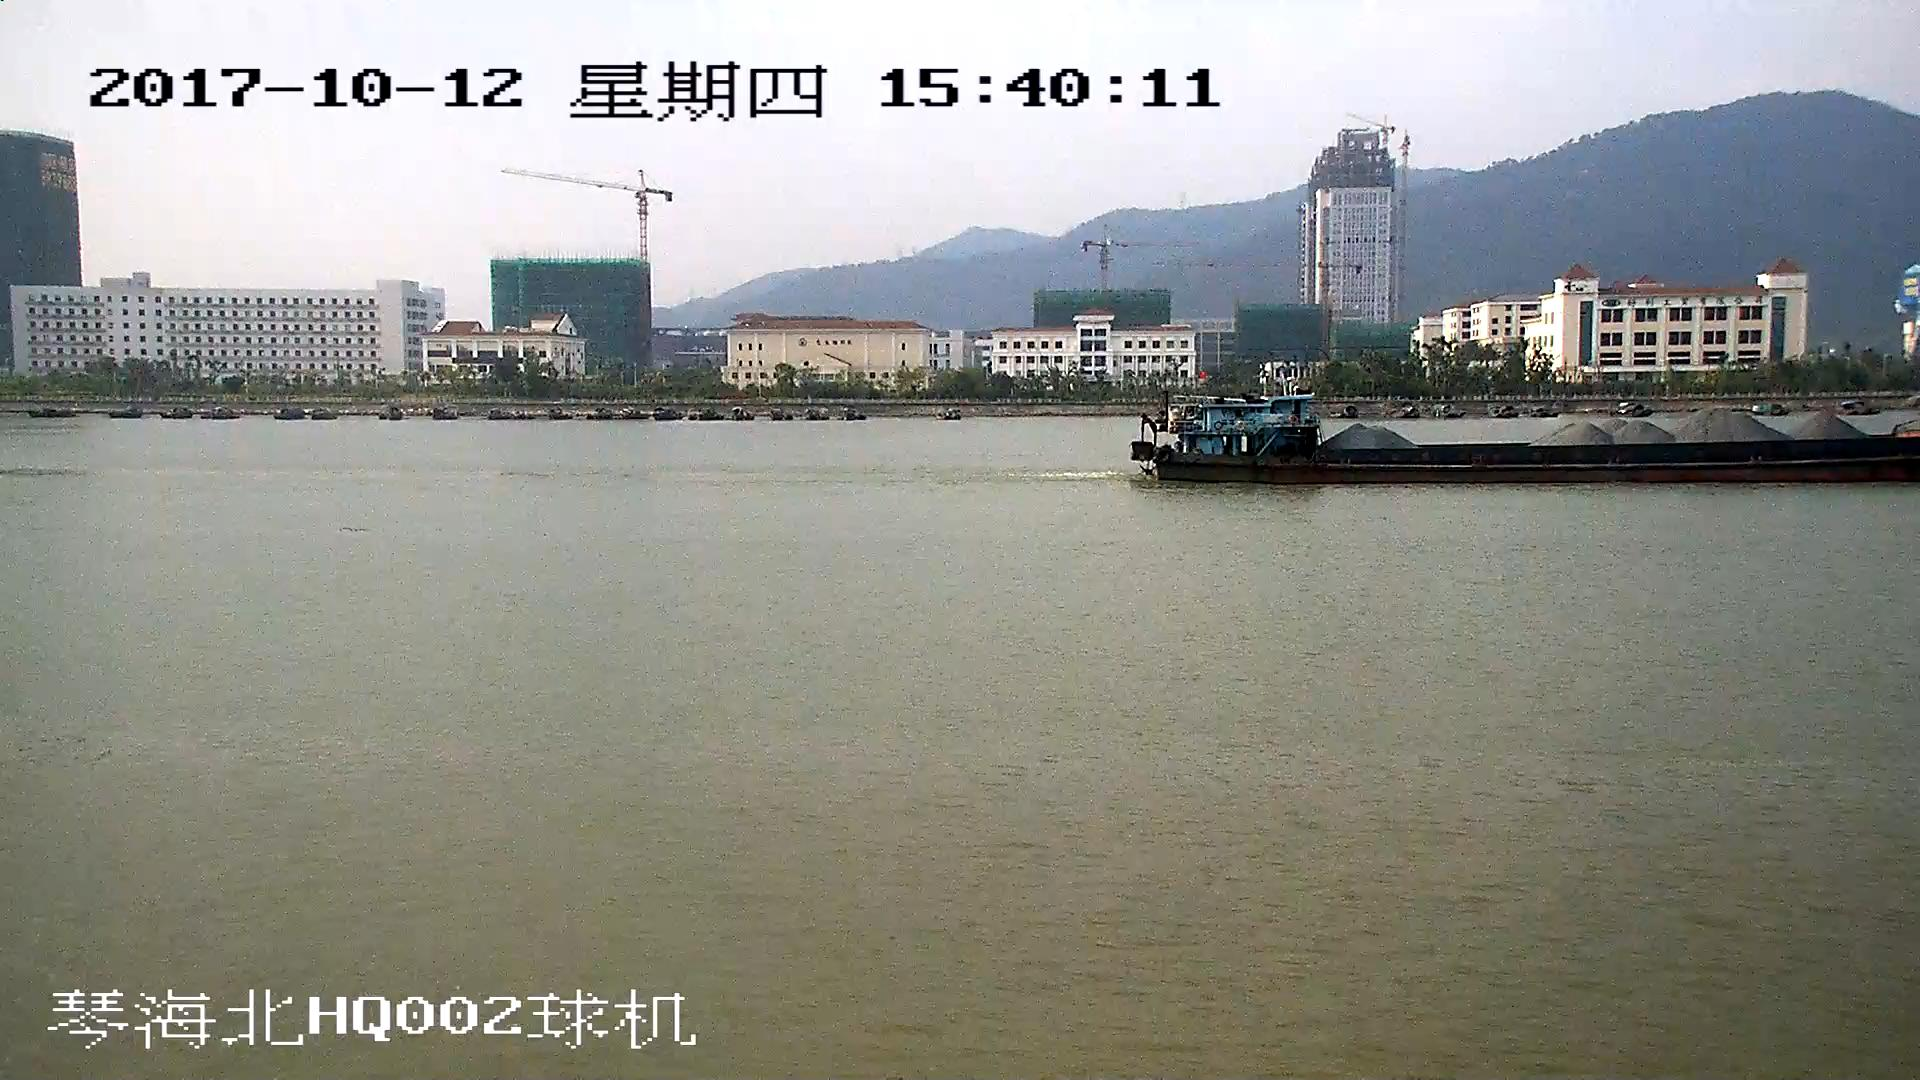ore carrier: (1129, 393, 1920, 484)
